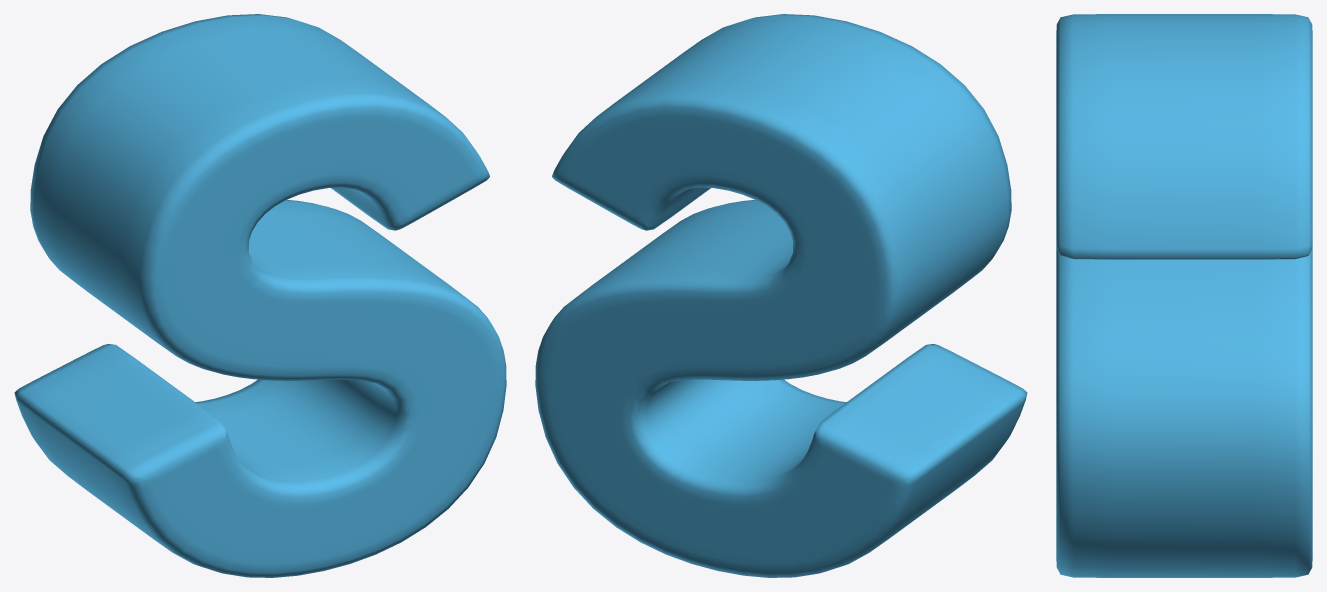
File: s-CjOeYUK8.glb
3 renders of one model, left to right at view 1: azimuth 30°, elevation 25°; view 2: azimuth 150°, elevation 25°; view 3: azimuth 270°, elevation 25°, orthographic. The views are drawn at different scales.
Visible parts, largest first — view 1: s.004; view 2: s.004; view 3: s.004.
Part boxes in pixels (<box>): s.004: <box>14,14,506,577</box>; s.004: <box>535,14,1027,577</box>; s.004: <box>1056,14,1312,577</box>.
Size of the model in its own units: 0.7231 by 0.8569 by 0.4.
